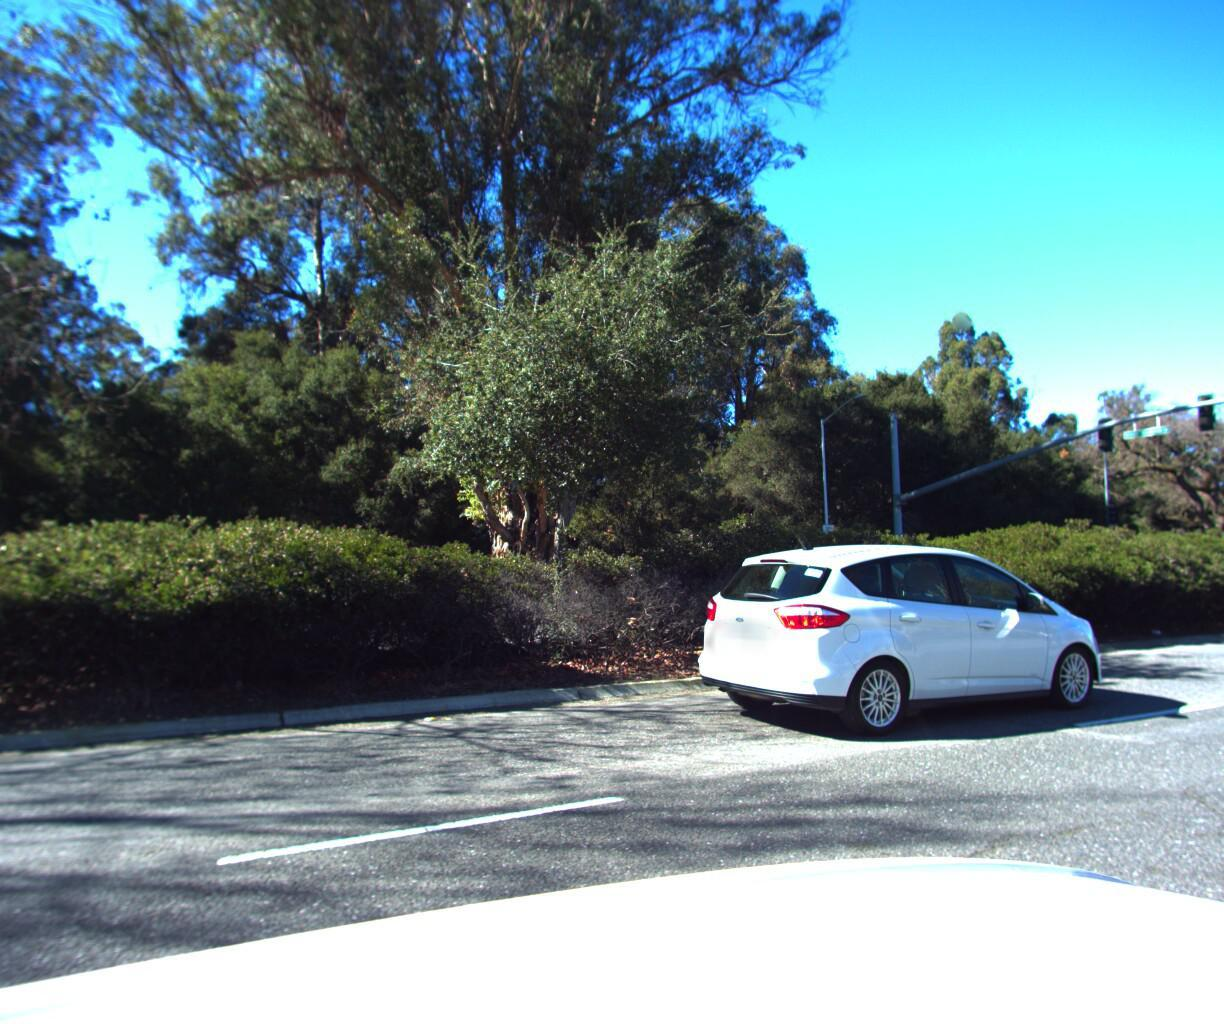car: (674, 525, 1143, 745)
